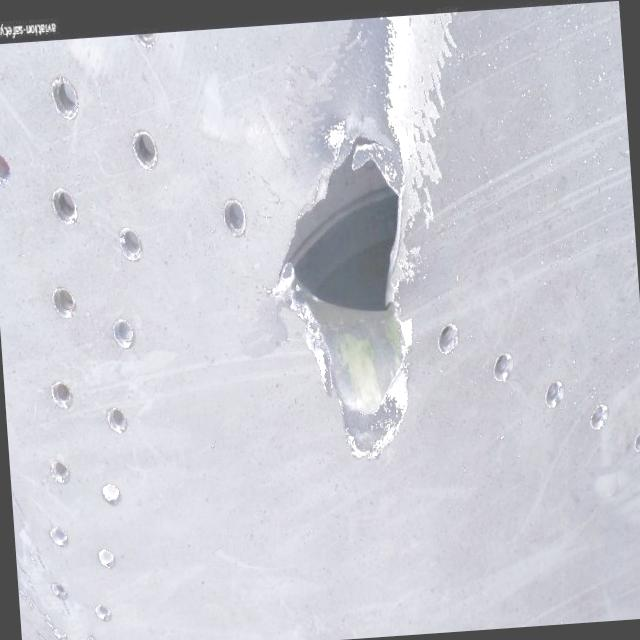crack: (252, 120, 430, 464), (35, 627, 59, 640), (82, 631, 96, 640)
